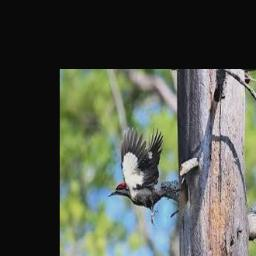Woodpecker: (107, 127, 183, 226)
